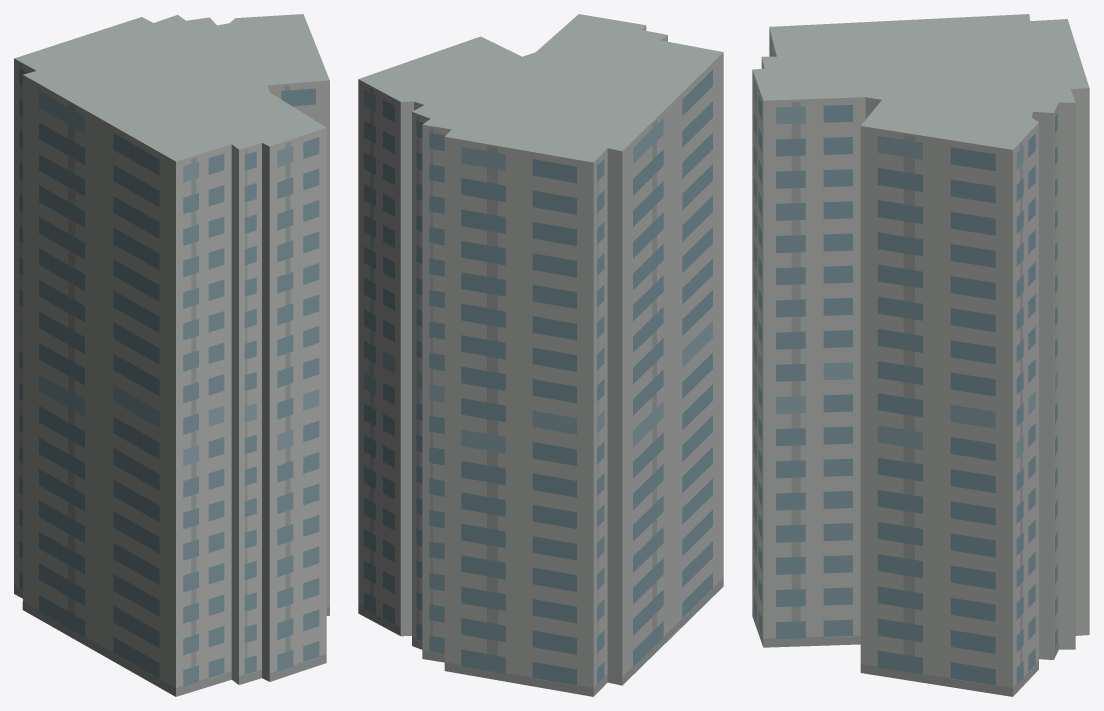
The model's file is residential-e19bcdcb-30dc-4fd0-ae74-8463cdad8777.glb.
3 renders of one model, left to right at view 1: azimuth 30°, elevation 25°; view 2: azimuth 150°, elevation 25°; view 3: azimuth 270°, elevation 25°, orthographic. The views are drawn at different scales.
Parts seen in each view (by area): view 1: residential-e19bcdcb-30dc-4fd0-ae74-8463cdad8777.tmp; view 2: residential-e19bcdcb-30dc-4fd0-ae74-8463cdad8777.tmp; view 3: residential-e19bcdcb-30dc-4fd0-ae74-8463cdad8777.tmp.
Boxes of the visible parts, left/top/right/bottom form: residential-e19bcdcb-30dc-4fd0-ae74-8463cdad8777.tmp: left=14, top=14, right=329, bottom=696; residential-e19bcdcb-30dc-4fd0-ae74-8463cdad8777.tmp: left=358, top=14, right=723, bottom=696; residential-e19bcdcb-30dc-4fd0-ae74-8463cdad8777.tmp: left=752, top=14, right=1089, bottom=696.
Size of the model in its own units: 31.98 by 60 by 33.52.
